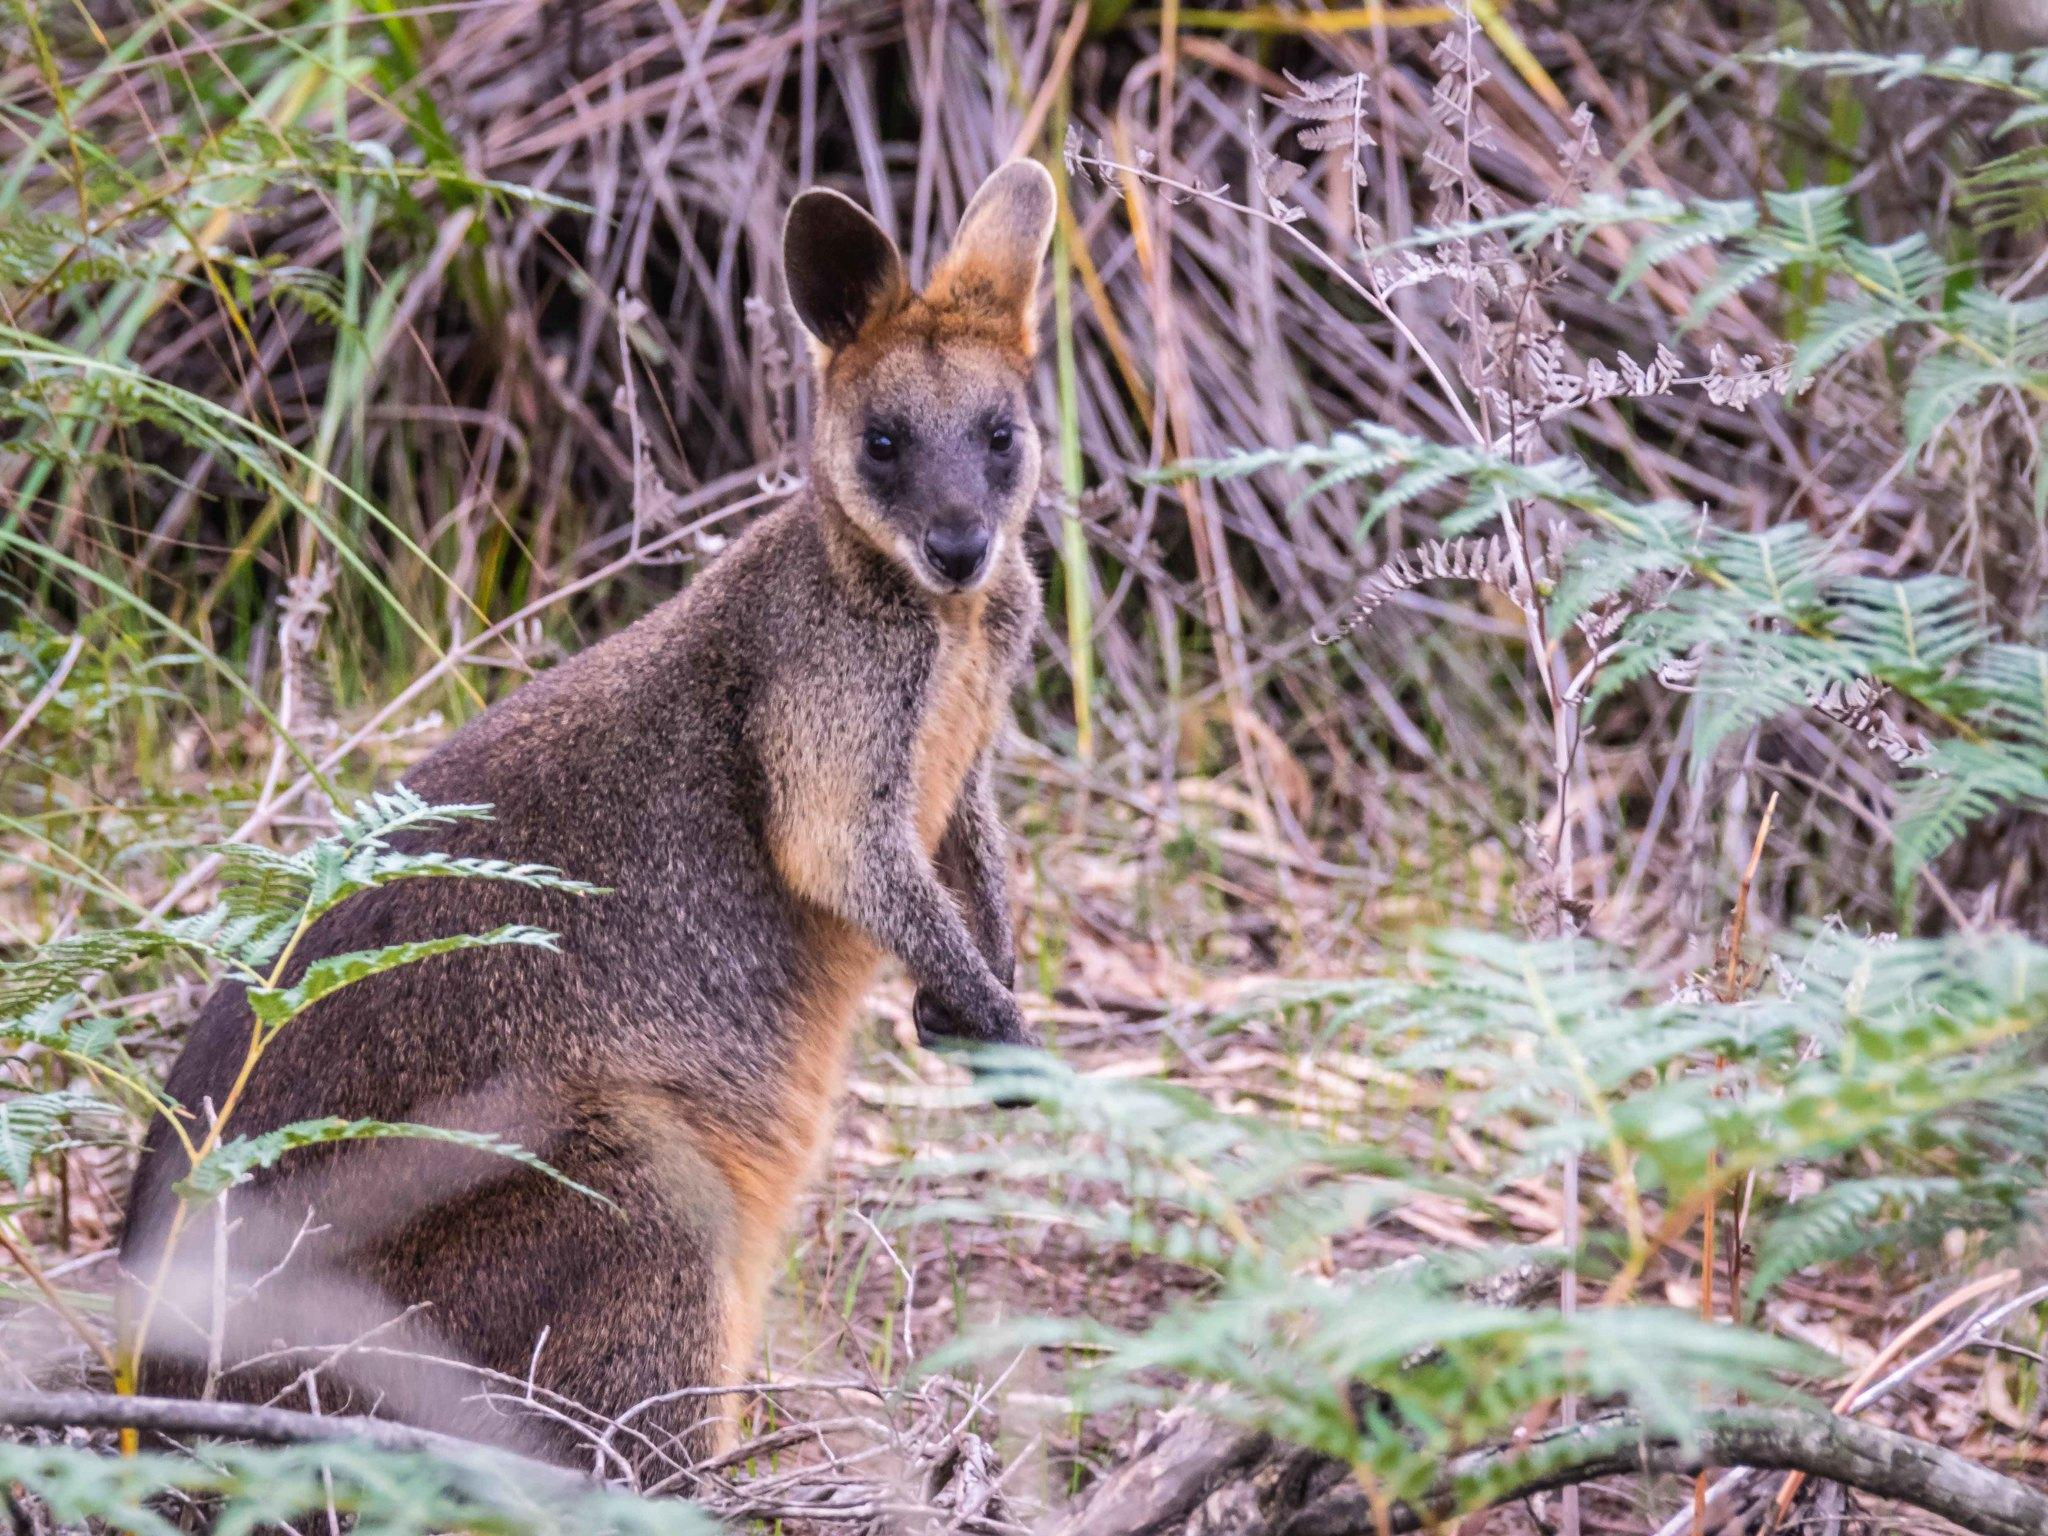Swamp wallaby: (0, 158, 1064, 1501)
